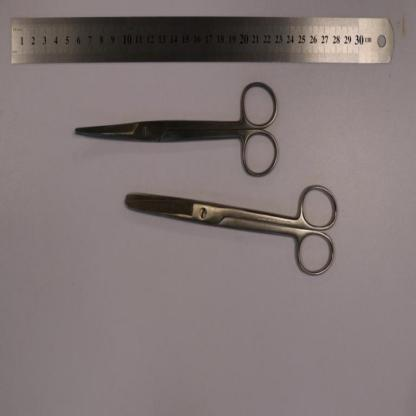Curved Mayo Scissors: (76, 80, 280, 177)
Dressing Scissors: (125, 181, 340, 278)
